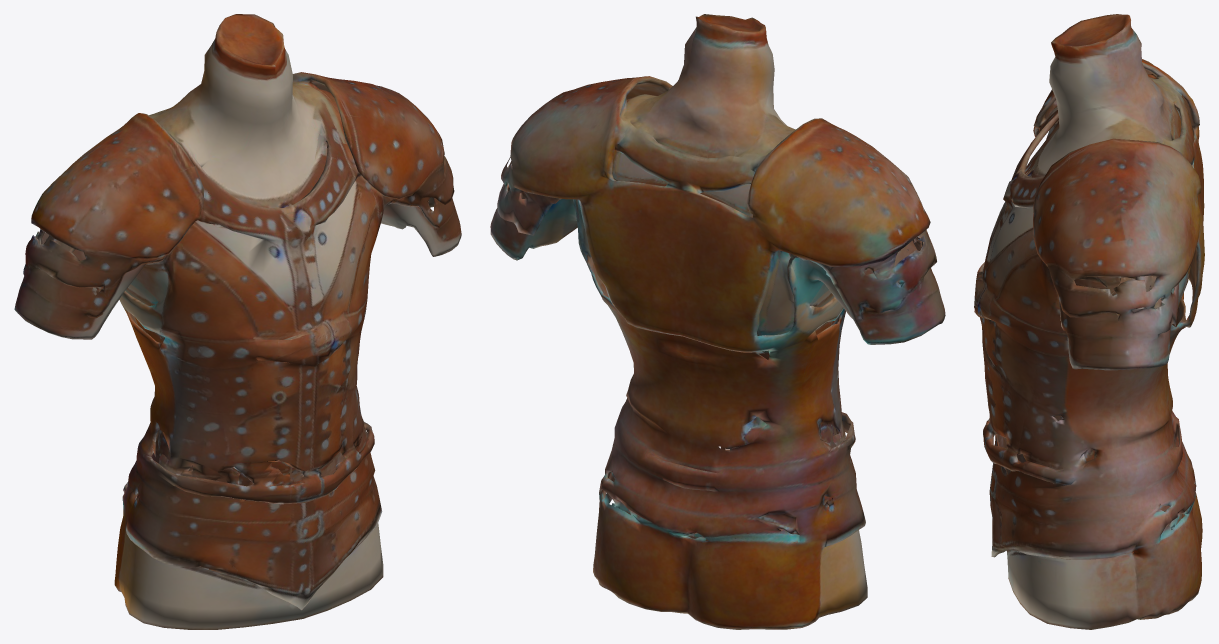
The model's file is Studded Leather Body.glb.
3 views of the same model, side by side, from view 1: azimuth 30°, elevation 25°; view 2: azimuth 150°, elevation 25°; view 3: azimuth 270°, elevation 25° (orthographic). The views are drawn at different scales.
Visible parts, largest first — view 1: file1; view 2: file1; view 3: file1.
Boxes of the visible parts, x1,y1,x2,y2 form: file1: [14, 14, 461, 629]; file1: [490, 14, 945, 629]; file1: [974, 14, 1204, 629].
Bounding box in the file's own units: 1.61 × 1.99 × 0.7485.
1 material, 1 textured.
